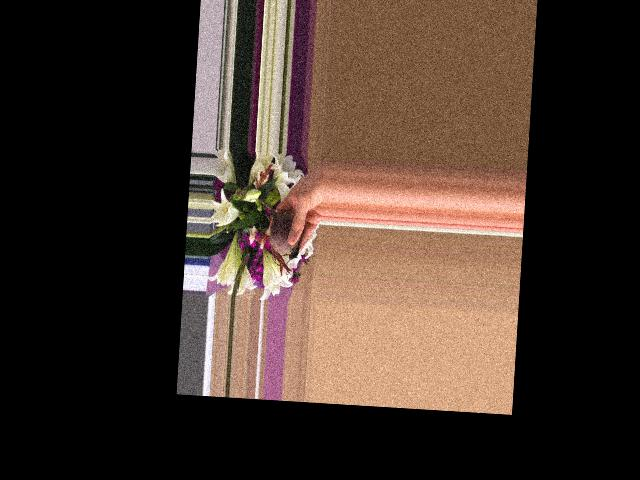beet: (245, 198, 302, 267)
